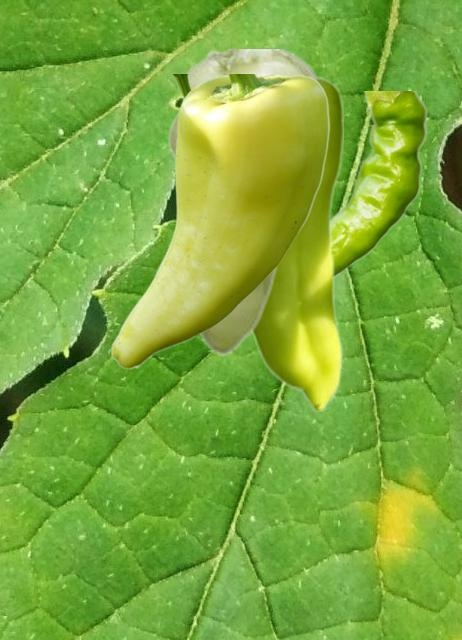green_chili: (110, 74, 329, 369), (164, 49, 322, 354), (250, 73, 342, 410), (332, 91, 427, 277)
